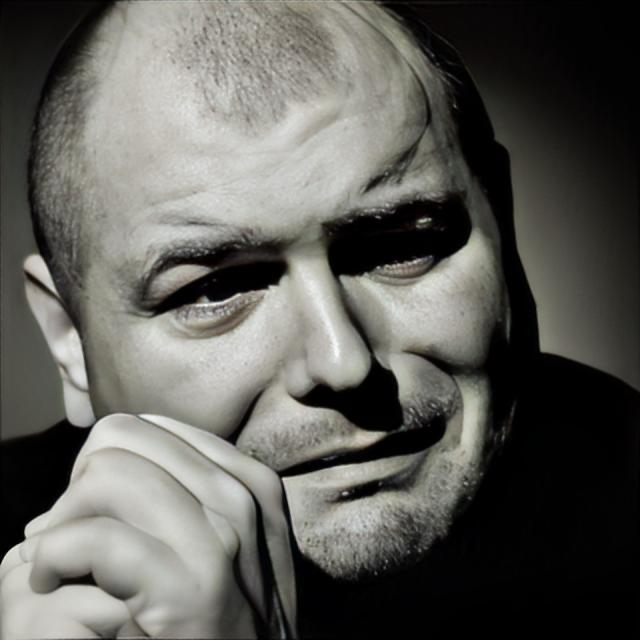sad: (31, 1, 514, 602)
